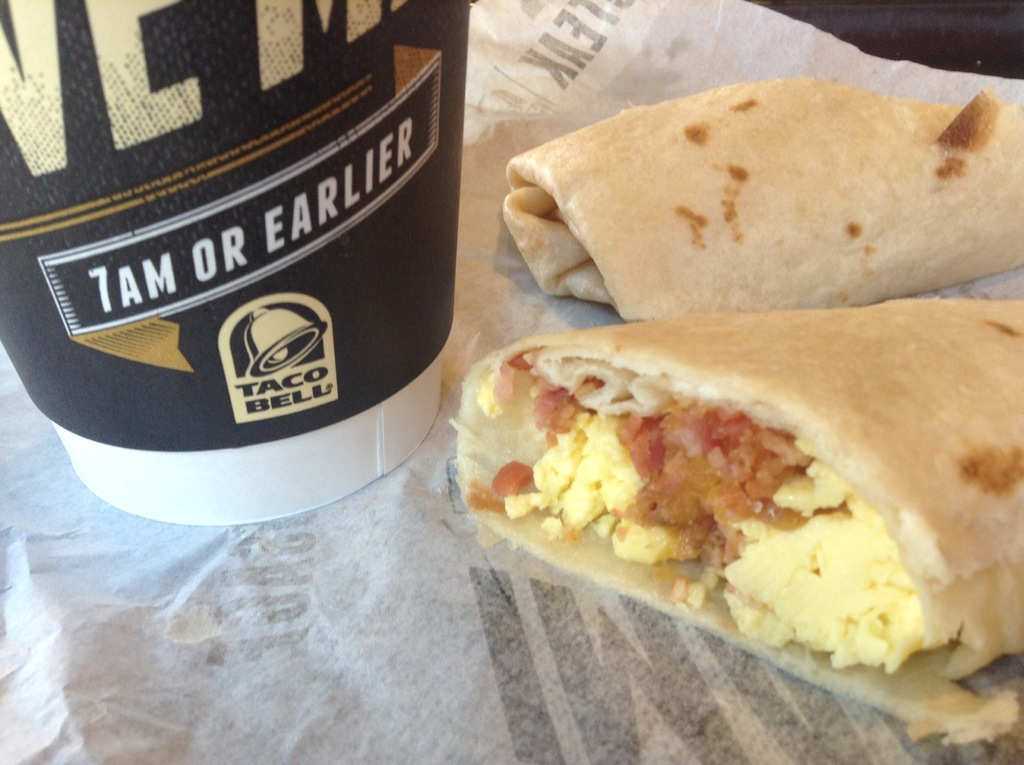taco: (457, 293, 1023, 748), (502, 77, 1023, 347)
